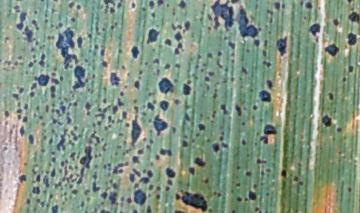tarspot: (55, 26, 79, 69), (208, 1, 236, 34), (235, 7, 259, 39), (181, 189, 208, 213), (129, 112, 141, 150), (152, 113, 169, 139), (70, 64, 87, 89), (78, 143, 93, 169), (54, 127, 68, 153), (157, 76, 174, 95), (32, 72, 50, 88), (275, 35, 288, 57), (145, 27, 160, 45), (131, 188, 146, 205), (324, 42, 341, 57), (15, 11, 27, 31), (21, 25, 34, 43), (257, 90, 273, 104), (308, 22, 322, 38), (76, 164, 86, 185), (320, 114, 334, 129), (346, 31, 359, 47), (109, 71, 121, 87), (262, 123, 278, 135), (129, 44, 140, 61), (347, 10, 360, 24), (212, 15, 222, 32), (89, 130, 101, 144), (163, 166, 177, 178), (110, 162, 123, 174), (218, 102, 230, 115), (158, 147, 173, 157), (181, 82, 191, 97), (158, 99, 169, 112), (193, 156, 206, 167), (108, 190, 117, 205), (90, 180, 101, 192), (114, 96, 126, 107), (130, 155, 142, 166), (246, 189, 257, 201), (210, 141, 220, 154), (130, 166, 141, 177), (145, 100, 155, 112), (234, 103, 242, 118), (41, 174, 49, 188), (75, 35, 83, 49), (182, 111, 192, 122), (93, 112, 106, 120), (215, 57, 223, 70), (255, 157, 268, 165), (17, 174, 27, 184), (49, 203, 59, 213), (126, 172, 136, 182), (226, 40, 236, 50), (173, 30, 182, 41), (18, 124, 25, 138), (27, 133, 35, 145), (65, 172, 73, 184), (99, 189, 107, 201), (36, 59, 46, 68), (68, 129, 77, 139), (239, 64, 248, 74), (259, 135, 269, 144), (279, 168, 288, 178), (331, 17, 340, 27), (49, 77, 60, 85), (138, 176, 149, 184), (120, 109, 128, 120), (133, 79, 141, 90), (265, 78, 273, 89), (7, 127, 13, 141), (183, 19, 190, 31), (64, 115, 73, 124), (100, 59, 109, 68), (177, 1, 186, 10), (272, 1, 281, 10), (304, 1, 313, 10), (49, 167, 57, 177), (51, 181, 61, 189), (48, 115, 56, 125), (84, 101, 92, 111), (110, 105, 118, 115), (145, 168, 153, 178), (187, 166, 195, 176), (197, 122, 205, 132), (163, 37, 171, 47), (326, 91, 334, 101), (2, 109, 10, 118), (29, 82, 38, 90), (48, 84, 57, 92), (67, 139, 75, 148), (67, 150, 76, 158), (98, 207, 110, 213), (67, 1, 76, 9), (144, 204, 152, 213), (136, 147, 145, 155), (152, 57, 160, 66), (180, 139, 189, 147), (172, 47, 180, 56), (335, 125, 343, 134), (101, 1, 115, 6), (170, 125, 177, 135), (205, 12, 212, 22), (253, 38, 260, 48), (243, 170, 253, 177), (347, 63, 354, 73), (48, 135, 54, 146), (26, 60, 34, 68), (39, 52, 47, 60), (82, 188, 90, 196), (92, 42, 100, 50), (116, 46, 124, 54), (156, 1, 164, 9), (125, 196, 133, 204), (203, 75, 211, 83), (239, 138, 247, 146), (10, 92, 19, 99), (47, 92, 56, 99), (39, 199, 46, 208), (91, 170, 98, 179), (78, 200, 85, 209), (54, 108, 61, 117), (74, 2, 81, 11), (68, 15, 77, 22), (132, 104, 139, 113), (207, 70, 216, 77), (220, 142, 229, 149), (35, 185, 41, 195), (101, 142, 107, 152), (173, 208, 185, 213), (1, 145, 8, 153), (21, 115, 28, 123), (17, 87, 25, 94), (30, 167, 37, 175), (24, 197, 31, 205), (47, 193, 54, 201), (71, 188, 78, 196), (70, 176, 78, 183), (71, 99, 79, 106), (66, 101, 73, 109), (85, 31, 92, 39), (108, 6, 115, 14), (101, 96, 108, 104), (148, 1, 155, 9), (105, 115, 112, 123), (123, 121, 131, 128), (153, 153, 160, 161), (166, 178, 173, 186), (163, 63, 171, 70), (172, 98, 180, 105), (205, 52, 213, 59), (235, 195, 243, 202), (43, 103, 49, 112), (35, 174, 41, 183), (29, 185, 35, 194), (31, 204, 37, 213), (174, 192, 180, 201), (170, 22, 176, 31), (262, 38, 268, 47), (261, 48, 267, 57), (100, 46, 105, 56), (229, 1, 239, 6), (56, 21, 63, 28), (28, 91, 35, 98), (39, 120, 46, 127), (72, 124, 79, 131), (66, 163, 73, 170), (58, 175, 65, 182), (90, 121, 97, 128), (115, 2, 122, 9), (102, 105, 109, 112), (117, 90, 124, 97), (147, 184, 154, 191), (148, 137, 155, 144), (163, 185, 170, 192), (202, 177, 209, 184), (176, 41, 183, 48), (176, 23, 183, 30), (211, 92, 218, 99), (234, 181, 241, 188), (292, 175, 299, 182), (22, 102, 28, 110), (59, 159, 65, 167), (130, 1, 136, 9), (141, 110, 147, 118), (198, 15, 204, 23), (216, 49, 222, 57), (204, 84, 210, 92), (266, 60, 272, 68), (265, 167, 273, 173), (11, 4, 20, 9), (94, 23, 99, 32), (96, 119, 101, 128), (130, 208, 139, 213), (155, 67, 160, 76), (281, 1, 286, 10), (268, 15, 273, 24), (30, 19, 37, 25), (33, 25, 40, 31), (3, 35, 10, 41), (2, 66, 9, 72), (15, 100, 21, 107), (37, 114, 44, 120), (39, 147, 46, 153), (41, 188, 48, 194), (46, 161, 53, 167), (50, 155, 57, 161), (49, 149, 56, 155), (62, 168, 68, 175), (56, 120, 63, 126), (59, 103, 66, 109), (90, 72, 96, 79), (100, 25, 106, 32), (84, 110, 91, 116), (101, 86, 108, 92), (119, 64, 126, 70), (109, 23, 115, 30), (150, 11, 156, 18), (132, 182, 139, 188), (122, 160, 129, 166), (117, 131, 124, 137), (174, 62, 180, 69), (204, 137, 211, 143), (185, 78, 192, 84), (173, 77, 179, 84), (185, 181, 191, 188), (228, 51, 235, 57), (229, 75, 235, 82), (252, 104, 258, 111), (258, 180, 264, 187), (298, 1, 305, 7), (15, 108, 23, 113), (50, 127, 55, 135), (121, 84, 129, 89), (155, 193, 160, 201), (196, 53, 201, 61), (314, 35, 319, 43), (344, 1, 354, 5), (32, 9, 38, 15), (43, 18, 49, 24), (50, 7, 56, 13), (29, 46, 35, 52), (23, 68, 29, 74), (22, 161, 28, 167), (16, 114, 22, 120), (51, 71, 57, 77), (58, 74, 64, 80), (41, 134, 47, 140), (67, 184, 73, 190), (85, 196, 91, 202), (92, 207, 98, 213), (99, 200, 105, 206), (49, 107, 55, 113), (111, 182, 117, 188), (122, 139, 128, 145), (150, 99, 156, 105), (148, 161, 154, 167), (143, 60, 149, 66), (137, 68, 143, 74), (194, 131, 200, 137), (206, 24, 212, 30), (199, 9, 205, 15), (222, 35, 228, 41), (244, 47, 250, 53), (198, 68, 204, 74), (248, 87, 254, 93), (235, 165, 241, 171), (259, 170, 265, 176), (252, 183, 258, 189), (253, 206, 259, 212), (298, 180, 304, 186), (341, 76, 347, 82), (50, 34, 55, 41), (16, 55, 23, 60), (3, 119, 8, 126), (51, 66, 58, 71), (35, 104, 40, 111), (32, 111, 37, 118), (31, 156, 36, 163), (57, 167, 62, 174), (25, 206, 30, 213), (118, 194, 123, 201), (64, 110, 71, 115), (117, 168, 124, 173), (115, 144, 122, 149), (191, 137, 196, 144), (194, 63, 199, 70), (201, 2, 206, 9), (243, 195, 248, 202), (347, 186, 352, 193), (45, 34, 50, 40), (6, 59, 11, 65), (13, 60, 18, 66), (32, 150, 37, 156), (35, 197, 40, 203), (62, 190, 67, 196), (44, 169, 50, 174), (73, 164, 78, 170), (97, 151, 102, 157), (49, 101, 55, 106), (95, 106, 101, 111), (141, 6, 146, 12), (165, 2, 170, 8), (125, 71, 131, 76), (113, 150, 118, 156), (102, 125, 107, 131), (106, 123, 111, 129), (147, 192, 152, 198), (156, 185, 161, 191), (141, 167, 146, 173), (141, 135, 146, 141), (145, 143, 150, 149), (146, 117, 151, 123), (131, 98, 137, 103), (150, 47, 156, 52), (207, 207, 212, 213), (211, 190, 216, 196), (216, 192, 221, 198), (230, 58, 235, 64), (201, 62, 207, 67), (213, 87, 218, 93), (209, 119, 215, 124), (217, 135, 223, 140), (219, 130, 225, 135), (262, 59, 267, 65), (241, 105, 246, 111), (230, 188, 235, 194), (230, 208, 236, 213), (337, 150, 342, 156), (223, 66, 228, 72), (13, 8, 20, 12), (104, 179, 108, 186), (15, 35, 20, 40), (49, 23, 54, 28), (33, 40, 38, 45), (18, 61, 23, 66), (32, 58, 37, 63), (30, 179, 35, 184), (93, 163, 98, 168), (83, 208, 88, 213), (83, 77, 88, 82), (99, 136, 104, 141), (92, 50, 97, 55), (106, 166, 111, 171), (111, 118, 116, 123), (191, 72, 196, 77), (268, 9, 273, 14), (267, 30, 272, 35), (237, 76, 242, 81), (211, 109, 216, 114), (211, 113, 216, 118), (241, 121, 246, 126), (258, 117, 263, 122), (253, 141, 258, 146), (245, 152, 250, 157), (265, 191, 270, 196), (42, 13, 48, 17), (51, 1, 59, 4), (11, 122, 15, 128), (41, 42, 45, 48), (64, 159, 68, 165), (74, 171, 78, 177), (93, 153, 97, 159), (83, 56, 87, 62), (102, 163, 106, 169), (106, 171, 110, 177), (148, 129, 152, 135), (141, 103, 145, 109), (137, 74, 141, 80), (182, 134, 188, 138), (171, 11, 175, 17), (38, 1, 45, 4), (53, 25, 57, 30), (2, 59, 6, 64), (10, 66, 15, 70), (31, 53, 35, 58), (16, 153, 21, 157), (61, 200, 65, 205), (117, 209, 122, 213), (56, 96, 61, 100), (87, 48, 91, 53), (106, 163, 111, 167), (108, 178, 112, 183), (121, 150, 125, 155), (171, 6, 175, 11), (194, 76, 198, 81), (265, 8, 269, 13), (198, 111, 202, 116), (205, 115, 210, 119), (255, 130, 259, 135), (263, 209, 268, 213), (6, 161, 10, 165), (15, 85, 19, 89), (39, 169, 43, 173), (257, 209, 261, 213), (38, 45, 41, 49), (59, 100, 63, 103), (118, 1, 124, 3), (1, 58, 3, 63), (1, 176, 3, 181)
